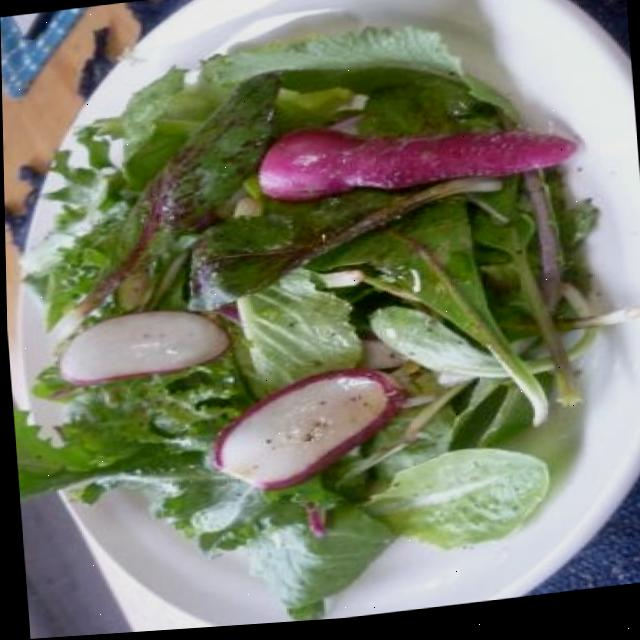蔬菜料理: (7, 0, 640, 640)
